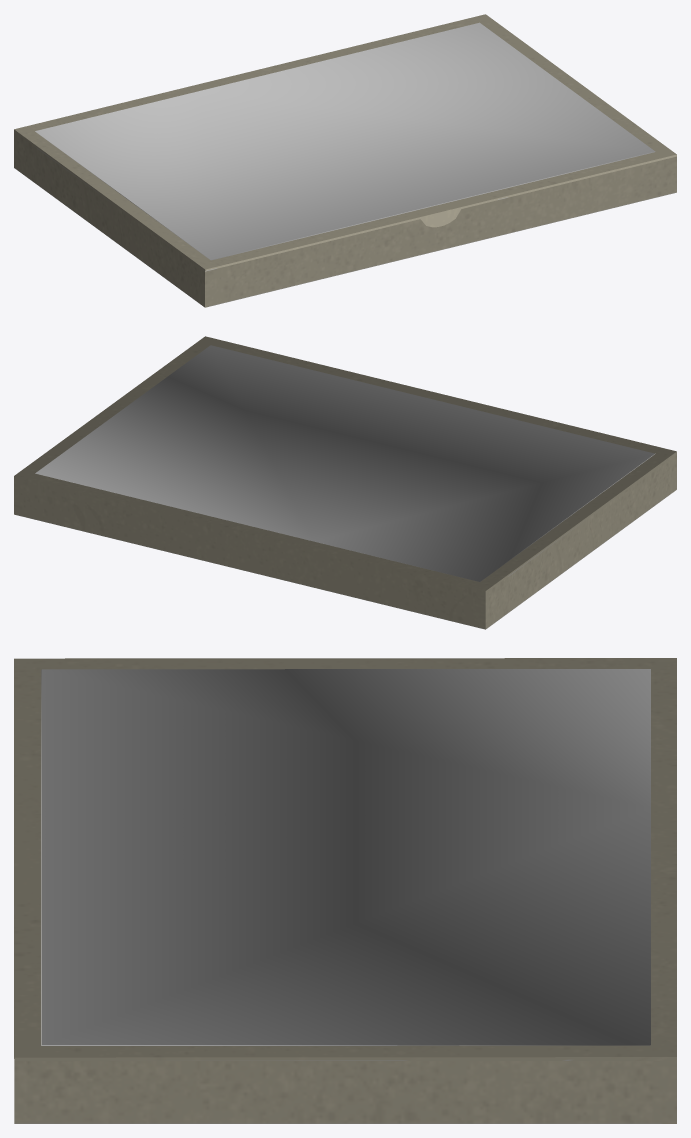
File: Candy_Box.gltf
3 views of the same model, one above another, from view 1: azimuth 30°, elevation 25°; view 2: azimuth 150°, elevation 25°; view 3: azimuth 270°, elevation 25° (orthographic). The views are drawn at different scales.
Visible parts, largest first — view 1: Caras, CandyBox; view 2: Caras, CandyBox; view 3: Caras, CandyBox.
Boxes of the visible parts, x1=… form: Caras: x1=35, y1=22, x2=655, y2=260; CandyBox: x1=14, y1=14, x2=676, y2=307; Caras: x1=35, y1=345, x2=655, y2=581; CandyBox: x1=14, y1=336, x2=676, y2=629; Caras: x1=41, y1=669, x2=650, y2=1045; CandyBox: x1=14, y1=658, x2=676, y2=1123.
Size of the model in its own units: 5.2 by 0.4102 by 3.65.
2 materials, 1 textured.
